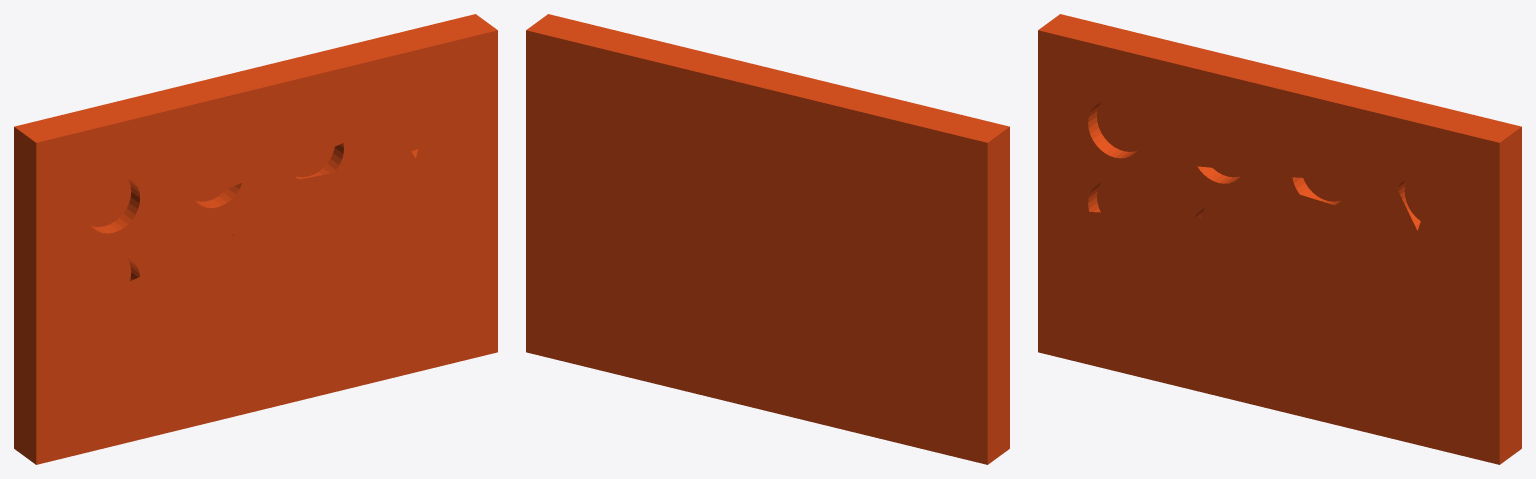
File: BasketBallWall.fbx
3 views of the same model, side by side, from view 1: azimuth 30°, elevation 25°; view 2: azimuth 150°, elevation 25°; view 3: azimuth 330°, elevation 25° (orthographic).
Visible parts, largest first — view 1: BasketballWall; view 2: BasketballWall; view 3: BasketballWall.
Boxes of the visible parts, x1=… form: BasketballWall: x1=14, y1=14, x2=497, y2=464; BasketballWall: x1=526, y1=14, x2=1009, y2=464; BasketballWall: x1=1038, y1=14, x2=1521, y2=464.
Bounding box in the file's own units: 600 × 400 × 50.
